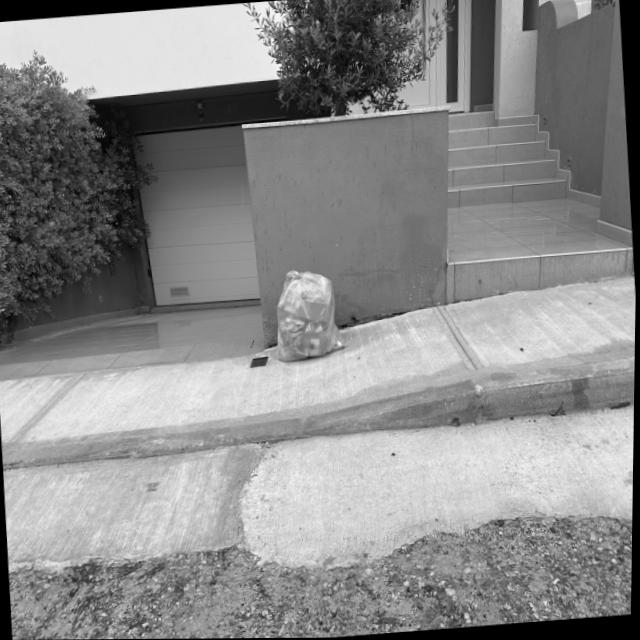Recyclable Material -Grey Bags-: (276, 270, 349, 362)
